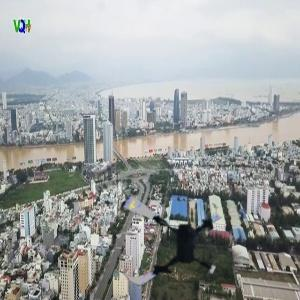drone: (111, 184, 224, 297)
